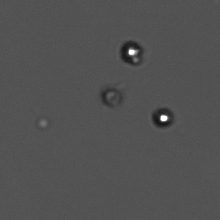Dead Cell: (97, 84, 124, 110)
Living Cell: (117, 37, 146, 70), (153, 102, 178, 129)
